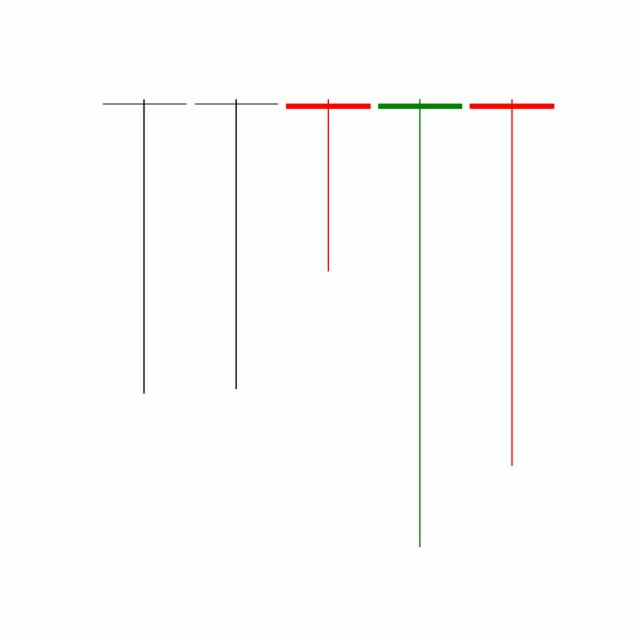Dragonfly Doji: (464, 94, 558, 470)
